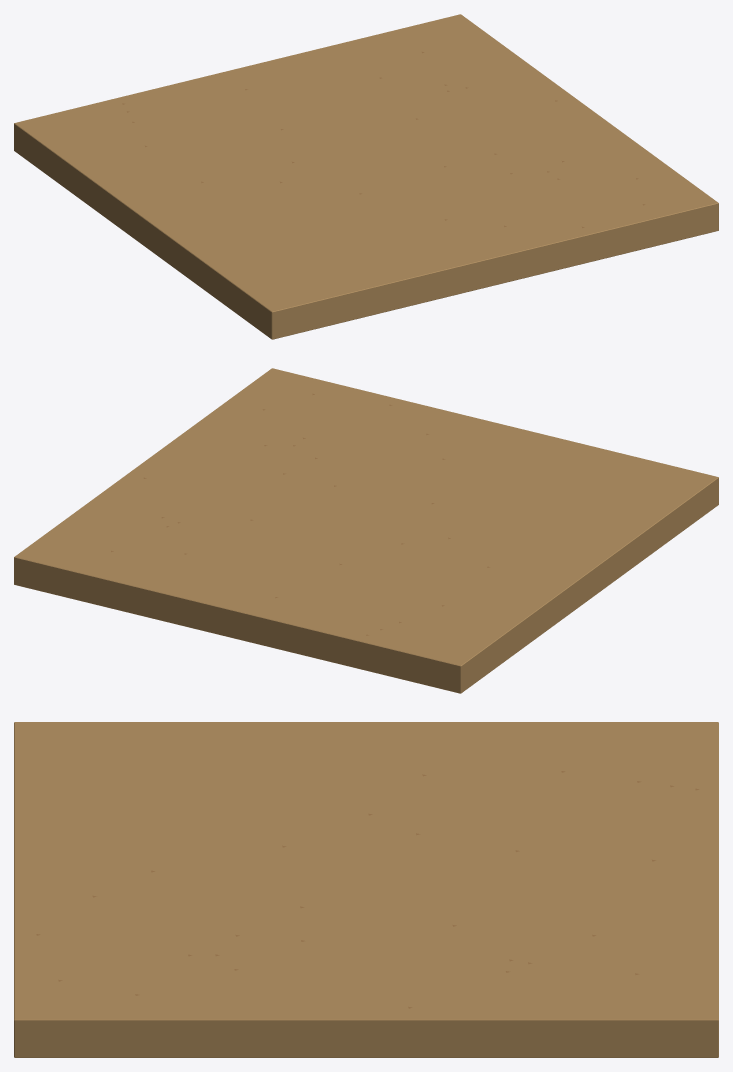
Rendered from path.glb.
3 renders of one model, top to bottom at view 1: azimuth 30°, elevation 25°; view 2: azimuth 150°, elevation 25°; view 3: azimuth 270°, elevation 25°, orthographic. The views are drawn at different scales.
Visible parts, largest first — view 1: path.001; view 2: path.001; view 3: path.001.
Part boxes in pixels (<box>): path.001: <box>14,14,718,339</box>; path.001: <box>14,368,718,693</box>; path.001: <box>14,722,718,1057</box>.
Size of the model in its own units: 1 by 0.0602 by 1.
